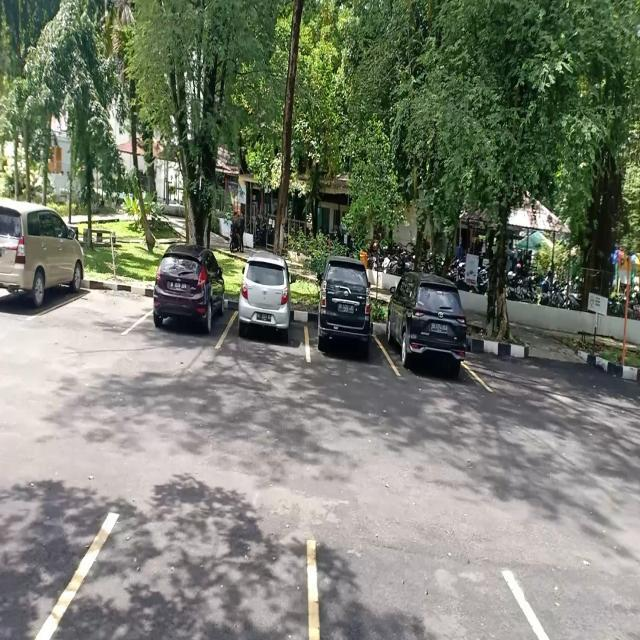empty: (65, 270, 152, 336)
occupied: (0, 231, 84, 323), (382, 298, 474, 380), (231, 277, 308, 362), (148, 270, 233, 346), (307, 297, 382, 365)
